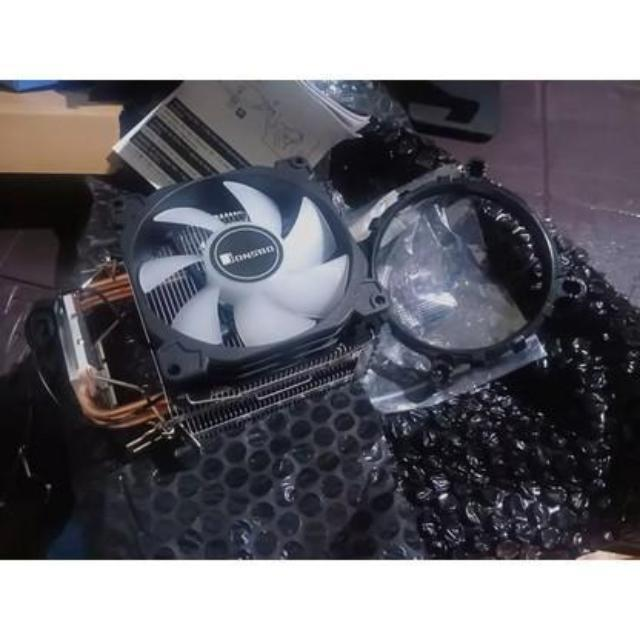CPU_Fan: (52, 166, 390, 440)
